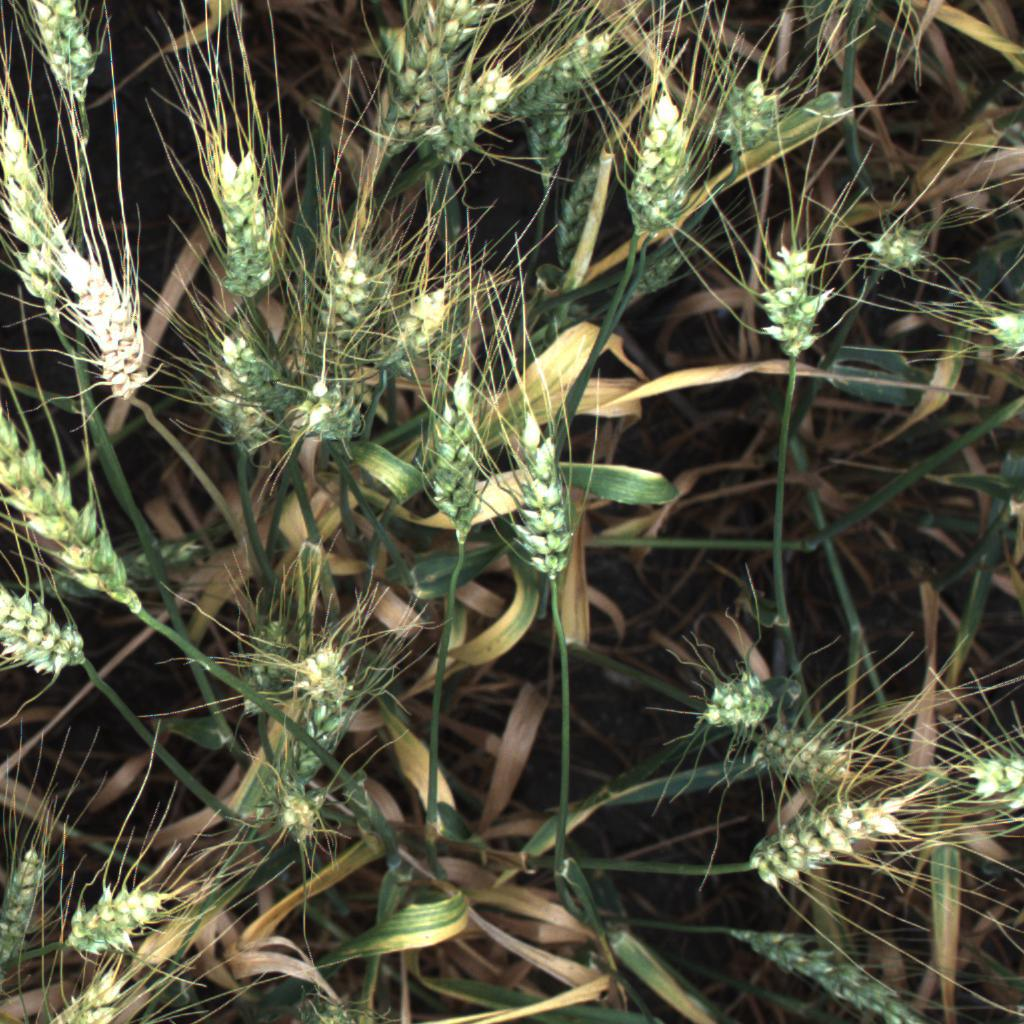0-0: (0, 399, 146, 630), (737, 772, 927, 893), (727, 916, 936, 1024), (46, 238, 158, 415), (347, 0, 472, 155), (188, 131, 284, 318), (503, 393, 593, 592), (619, 73, 706, 251), (0, 127, 70, 338), (405, 62, 513, 184), (500, 23, 623, 130), (417, 373, 492, 544), (728, 715, 875, 797), (201, 326, 278, 482), (751, 234, 837, 369), (57, 873, 183, 965), (0, 575, 95, 690), (22, 1, 109, 114), (943, 720, 1024, 832), (685, 659, 797, 739), (218, 615, 291, 737), (711, 69, 797, 172), (312, 225, 379, 356), (381, 267, 457, 375), (541, 152, 611, 267), (855, 207, 949, 287), (525, 65, 581, 196), (0, 825, 48, 972), (287, 687, 344, 802), (298, 369, 375, 448), (630, 233, 703, 308), (43, 967, 136, 1024), (273, 777, 346, 845), (971, 289, 1024, 375), (295, 630, 354, 702)
